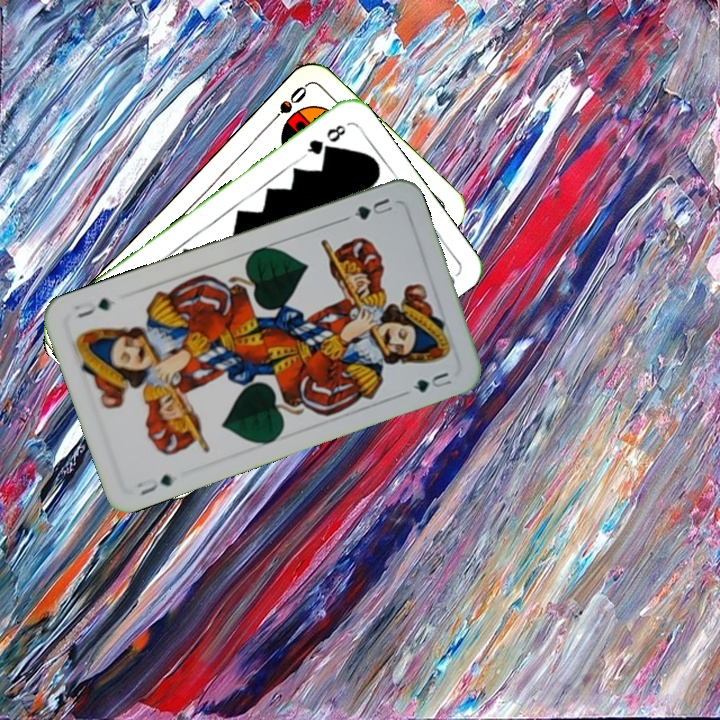G8: (303, 120, 349, 158)
GU: (349, 193, 396, 223), (132, 470, 175, 498)
SO: (264, 82, 310, 129)
